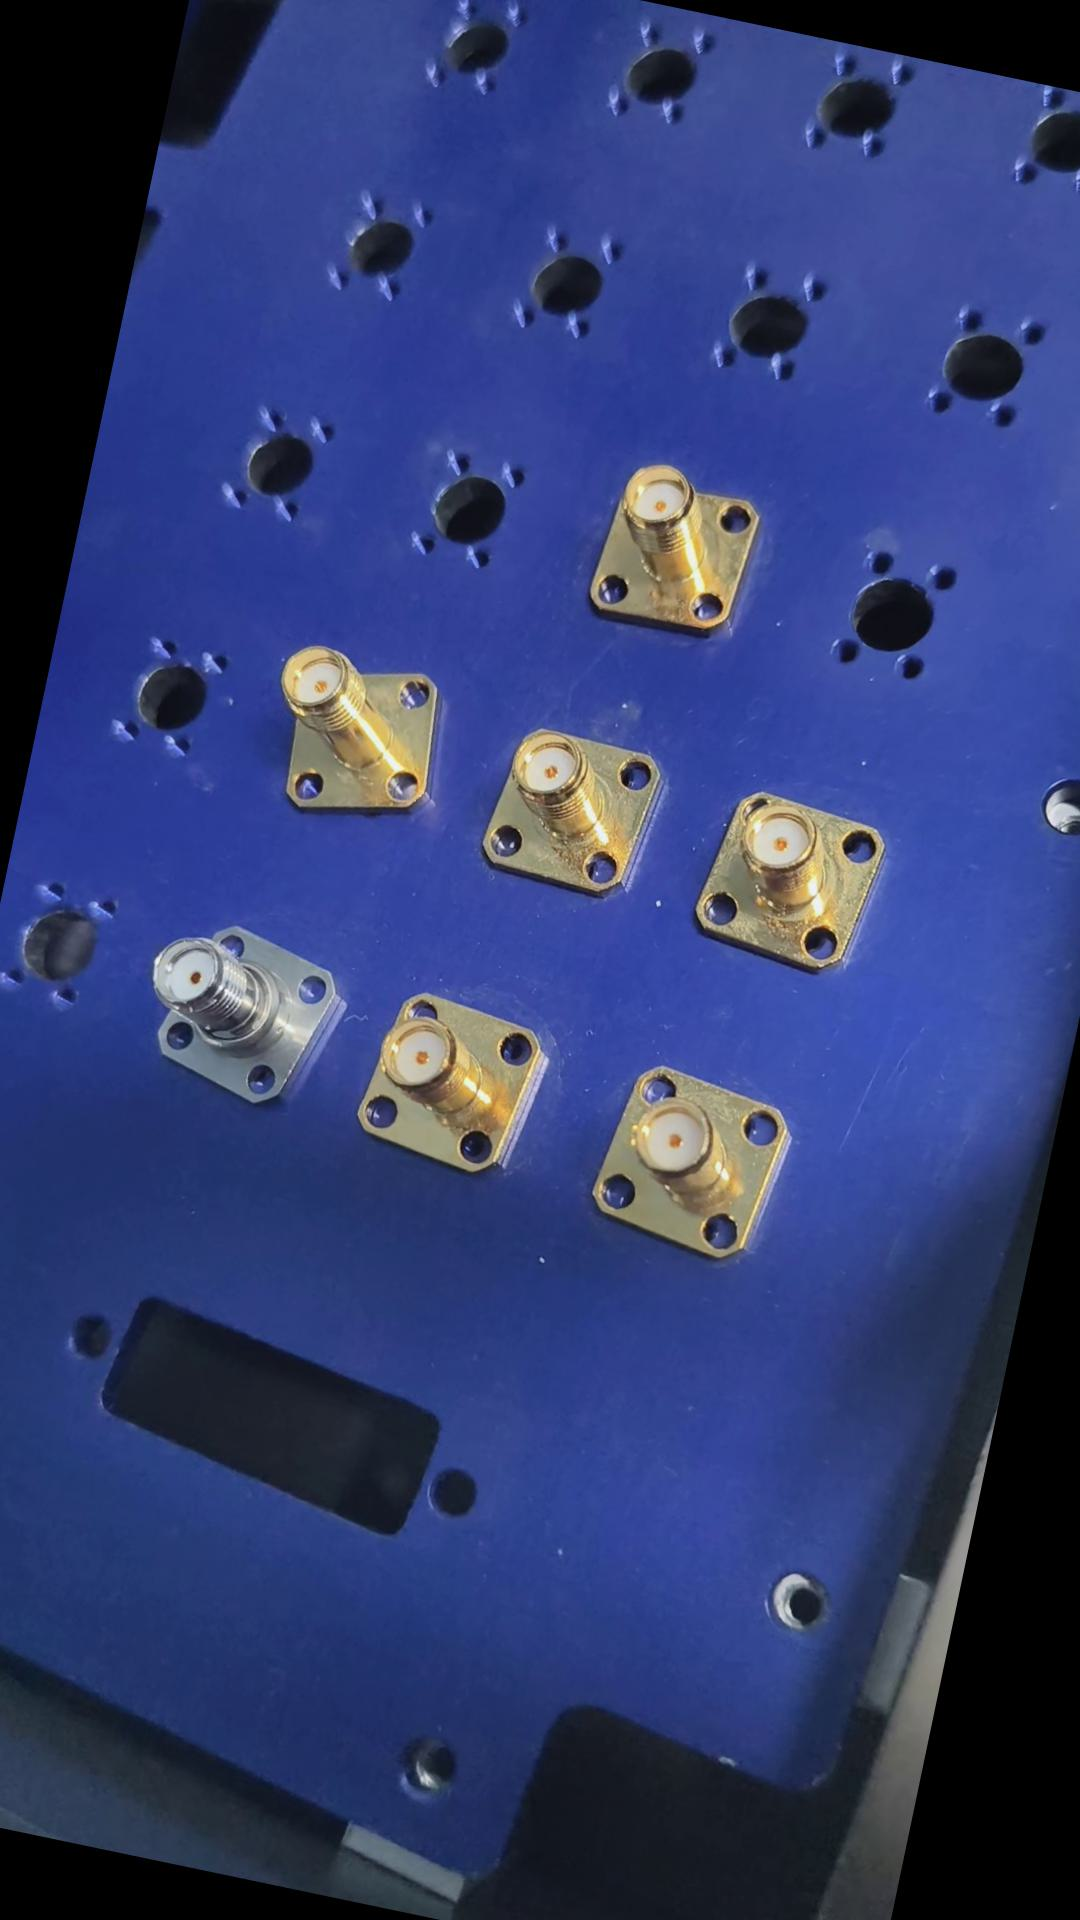SMA: (572, 1052, 799, 1276), (125, 909, 353, 1120), (343, 975, 553, 1185), (684, 775, 894, 975), (249, 638, 454, 836), (473, 715, 673, 909), (574, 452, 771, 644)
